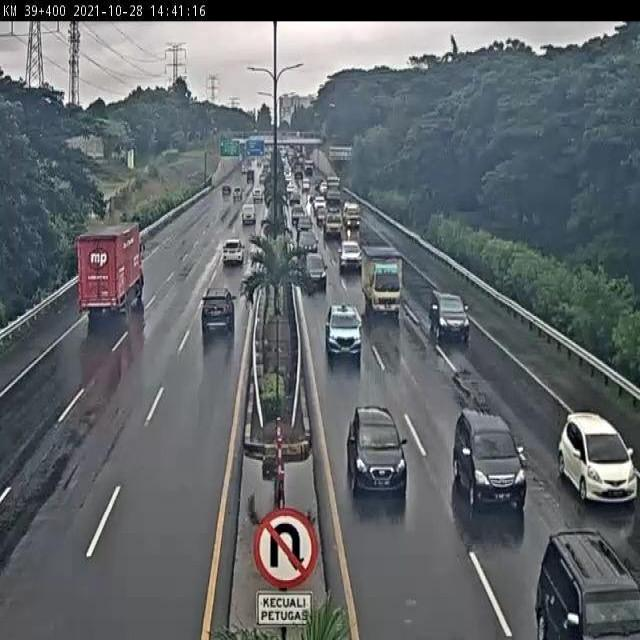car: (452, 411, 527, 513), (558, 411, 639, 504), (347, 407, 408, 500), (429, 288, 471, 345), (324, 303, 362, 360), (201, 286, 237, 334), (301, 252, 328, 289), (337, 238, 363, 270), (221, 239, 245, 265)
mid truck: (75, 221, 146, 315)
truck-m-: (362, 247, 403, 316)
